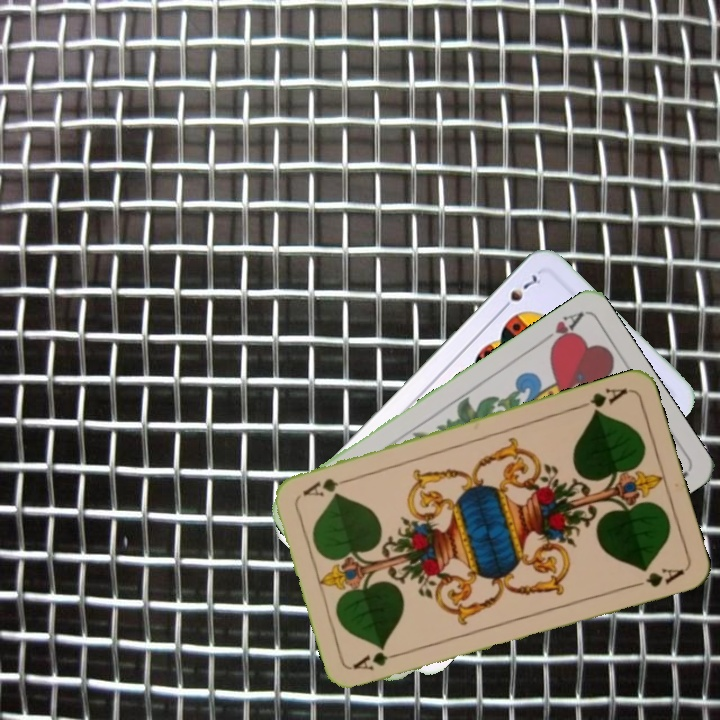GA: (573, 384, 630, 417), (349, 647, 408, 673)
HA: (534, 307, 586, 352)
S7: (496, 270, 544, 315)
